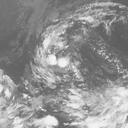cyclone: (38, 24, 109, 90)
